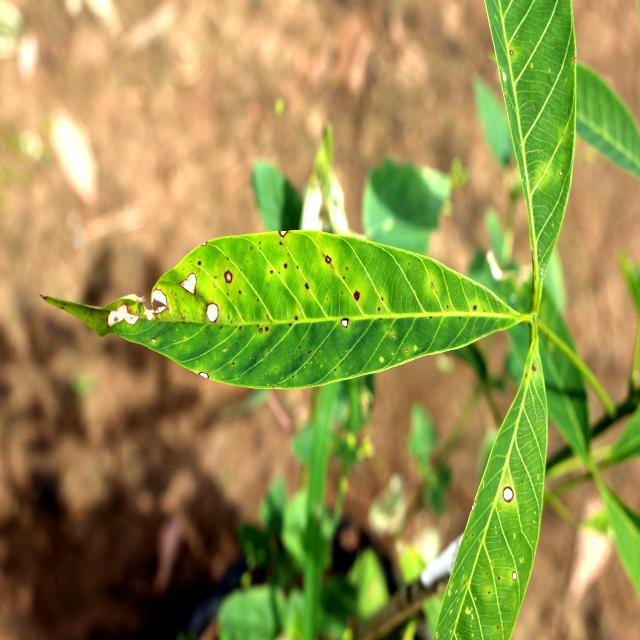Colletotrichum: (108, 304, 138, 327), (205, 302, 219, 324), (502, 486, 514, 503), (224, 271, 232, 283), (353, 290, 360, 301), (341, 319, 349, 328), (512, 571, 517, 581), (325, 256, 331, 264), (265, 326, 269, 332), (259, 328, 263, 333), (392, 334, 396, 339), (405, 349, 408, 354), (284, 264, 287, 268)
